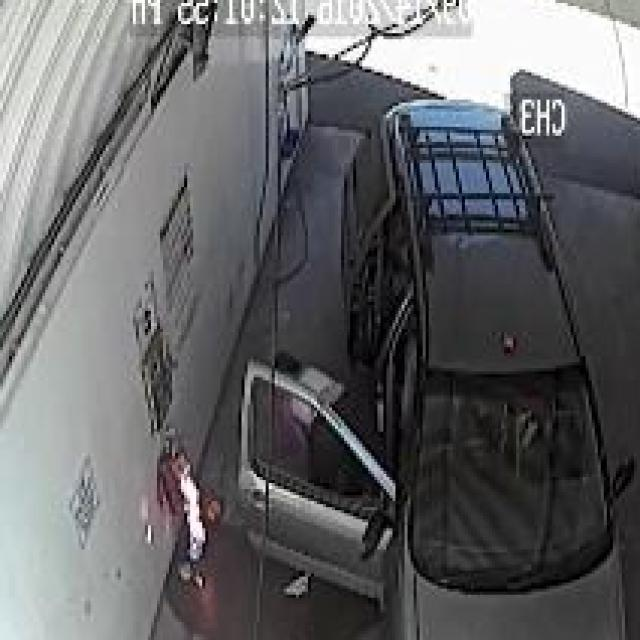smoke: (178, 462, 205, 555)
